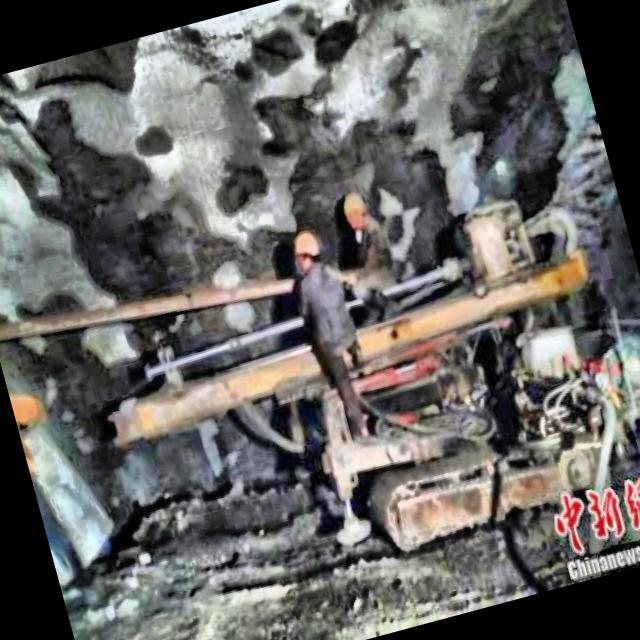helmet: (338, 184, 376, 234), (290, 228, 328, 275)
